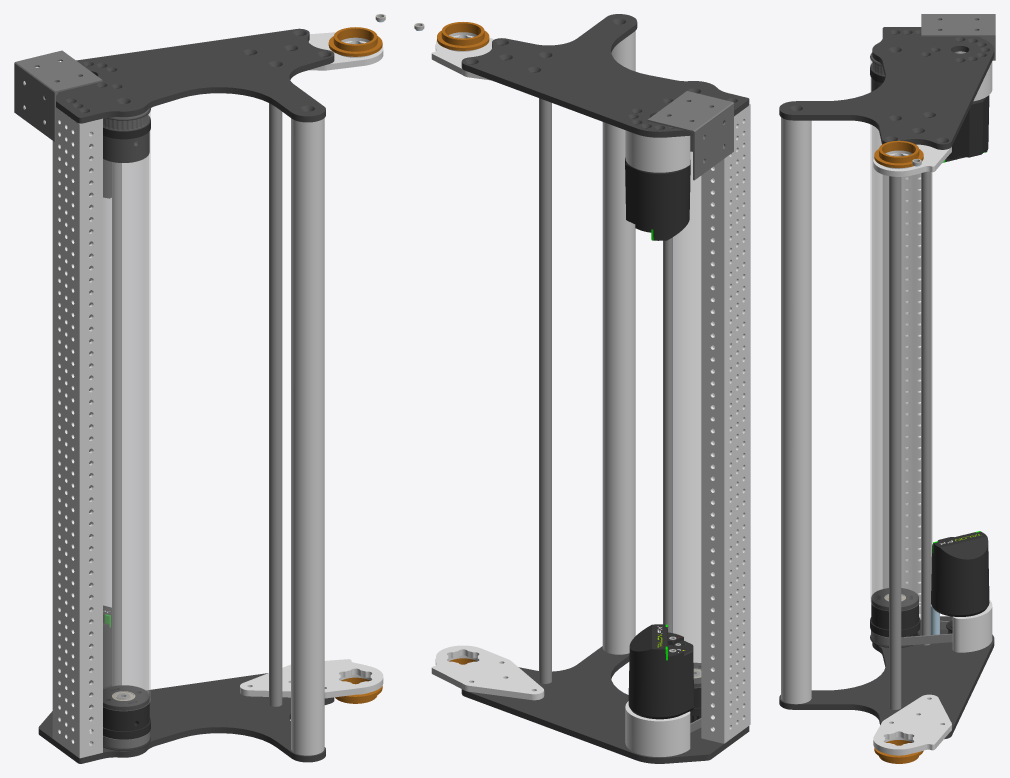
The picture shows the model from 3 angles, left to right: view 1: azimuth 30°, elevation 25°; view 2: azimuth 150°, elevation 25°; view 3: azimuth 270°, elevation 25°; orthographic projection. The views are drawn at different scales.
Visible parts, largest first — view 1: 1678-26c-1510, 1678-26c-1516, 1678-26c-1507, 1678-26c-1501, 1678-26c-1502, 1678-26c-1506, 1678-26c-1514, 1678-26c-1513 (×2), Part 5, 1678-26c-1505 (×2), Bushing, Kraken X60 Brushless Motor; view 2: 1678-26c-1510, 1678-26c-1507, 1678-26c-1501, 1678-26c-1516, Kraken X60 Brushless Motor (×2), 1678-26c-1502, 1678-26c-1506, 1678-26c-1512 (×2), 1678-26c-1505 (×2), Part 5, 1678-26c-1514, Bushing; view 3: 1678-26c-1507, 1678-26c-1516, 1678-26c-1501, 1678-26c-1510, 1678-26c-1502, 1678-26c-1506, Kraken X60 Brushless Motor (×2), 1678-26c-1514, 1678-26c-1505 (×2), 1678-26c-1513 (×2), 1678-26c-1512 (×2), Part 5 (+2 smaller).
Part boxes in pixels (x1,y1,x2,y2): 1678-26c-1510: (52,107,102,758); 1678-26c-1516: (103,109,150,710); 1678-26c-1507: (291,118,324,755); 1678-26c-1501: (44,28,334,123); 1678-26c-1502: (38,673,334,763); 1678-26c-1506: (269,103,282,706); 1678-26c-1514: (112,162,121,685); 1678-26c-1513 (×2): (103,108,150,750); Part 5: (14,50,102,141); 1678-26c-1505 (×2): (240,32,383,698); Bushing: (328,27,382,56); Kraken X60 Brushless Motor: (103,605,111,688); 1678-26c-1510: (701,104,750,743); 1678-26c-1507: (602,31,635,654); 1678-26c-1501: (461,14,749,137); 1678-26c-1516: (673,136,701,687); Kraken X60 Brushless Motor (×2): (625,157,694,719); 1678-26c-1502: (461,646,749,763); 1678-26c-1506: (539,98,551,683); 1678-26c-1512 (×2): (625,130,690,756); 1678-26c-1505 (×2): (431,35,544,700); Part 5: (647,91,733,180); 1678-26c-1514: (663,237,672,632); Bushing: (437,22,489,50); 1678-26c-1507: (781,117,811,704); 1678-26c-1516: (870,52,919,610); 1678-26c-1501: (779,27,994,149); 1678-26c-1510: (883,172,932,619); 1678-26c-1502: (779,616,994,739); 1678-26c-1506: (889,176,901,709); Kraken X60 Brushless Motor (×2): (931,95,989,616); 1678-26c-1514: (921,171,930,645); 1678-26c-1505 (×2): (873,144,951,754); 1678-26c-1513 (×2): (870,53,920,647); 1678-26c-1512 (×2): (952,51,992,652); Part 5: (921,14,995,60).
Size of what is drawn, in the model's own units: 0.3579 by 0.6924 by 0.2218.
